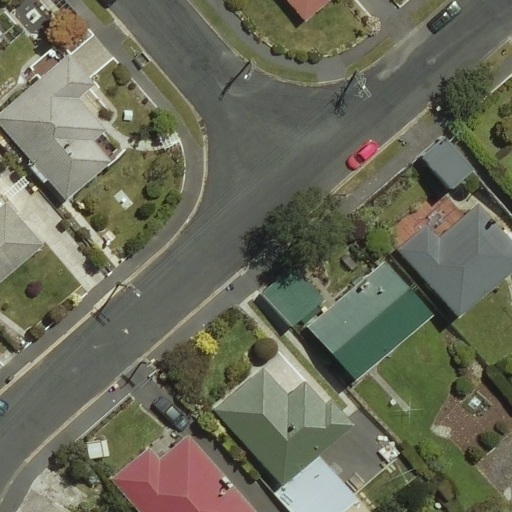DT: (346, 64, 377, 103), (234, 53, 262, 83), (113, 277, 143, 301)
